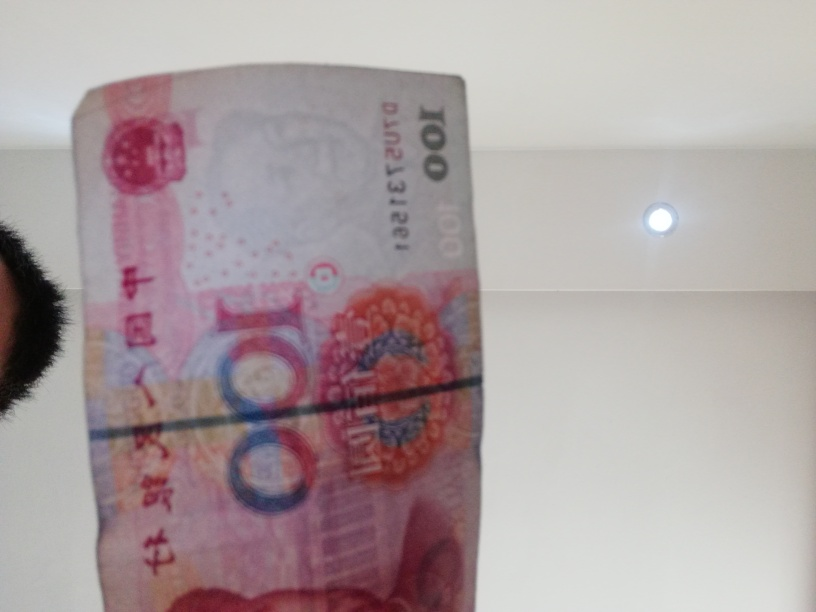rmb: (57, 61, 487, 612)
